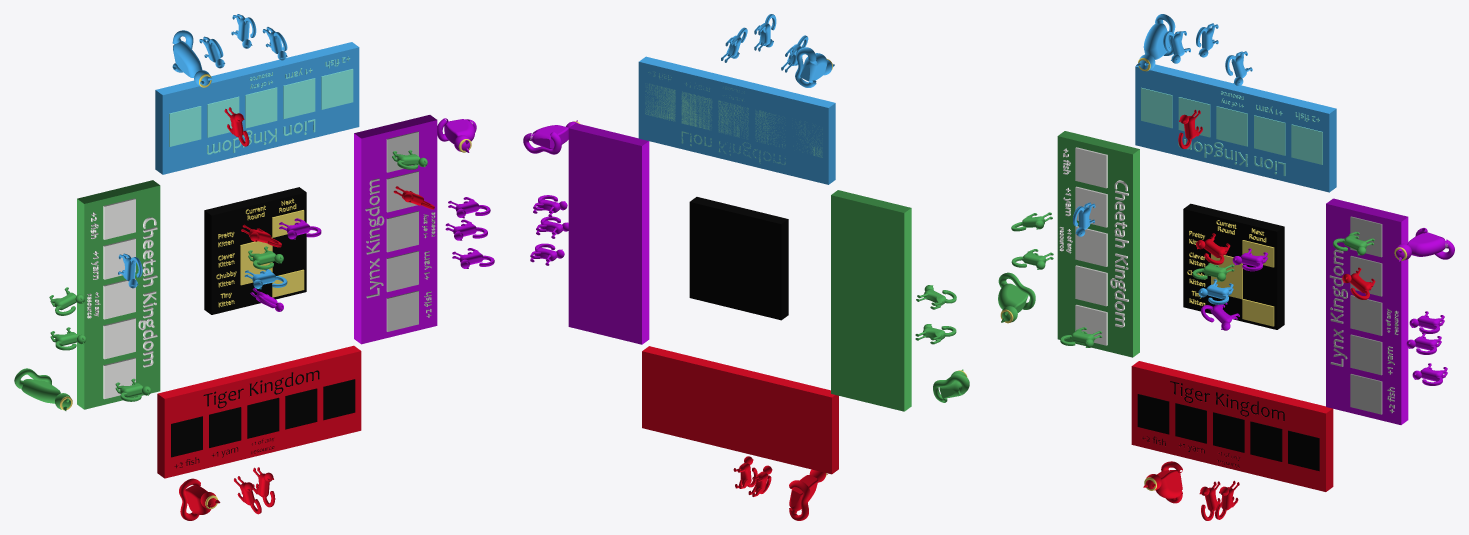
Rendered from Kitten_Kingdoms_v40.glb.
3 views of the same model, side by side, from view 1: azimuth 30°, elevation 25°; view 2: azimuth 150°, elevation 25°; view 3: azimuth 330°, elevation 25° (orthographic). The views are drawn at different scales.
Visible parts, largest first — view 1: Player Mat (×6), Player Mat:3 (×6), Player Mat 2 (×6), Player Mat:4 (×6), Turn Order Mat (×2), Kitten Kingdoms_Monarch Cat v1 (×2), Kitten Kingdoms_Monarch Cat v2, Monarch Cat; view 2: Player Mat:3 (×4), Player Mat 2, Player Mat:4, Player Mat, Turn Order Mat, Monarch Cat, Kitten Kingdoms_Monarch Cat v1, Kitten Kingdoms_Monarch Cat v2; view 3: Player Mat (×6), Player Mat:3 (×6), Player Mat 2 (×6), Player Mat:4 (×6), Turn Order Mat (×2), Kitten Kingdoms_Monarch Cat v1 (×2), Monarch Cat, Kitten Kingdoms_Monarch Cat v2.
Boxes of the visible parts, x1,y1,x2,y2 form: Player Mat (×6): (157, 345, 361, 478); Player Mat:3 (×6): (155, 42, 359, 174); Player Mat 2 (×6): (354, 115, 437, 344); Player Mat:4 (×6): (77, 180, 160, 409); Turn Order Mat (×2): (204, 187, 306, 314); Kitten Kingdoms_Monarch Cat v1 (×2): (21, 379, 216, 514); Kitten Kingdoms_Monarch Cat v2: (173, 41, 210, 86); Monarch Cat: (444, 119, 474, 151); Player Mat:3 (×4): (638, 56, 835, 184); Player Mat 2: (568, 123, 649, 344); Player Mat:4: (831, 190, 911, 411); Player Mat: (642, 346, 838, 474); Turn Order Mat: (689, 197, 788, 320); Monarch Cat: (531, 121, 577, 148); Kitten Kingdoms_Monarch Cat v1: (789, 469, 825, 510); Kitten Kingdoms_Monarch Cat v2: (800, 53, 832, 81); Player Mat (×6): (1131, 361, 1333, 491); Player Mat:3 (×6): (1135, 64, 1336, 192); Player Mat 2 (×6): (1326, 198, 1408, 424); Player Mat:4 (×6): (1057, 131, 1139, 357); Turn Order Mat (×2): (1183, 203, 1284, 329); Kitten Kingdoms_Monarch Cat v1 (×2): (998, 283, 1182, 498); Monarch Cat: (1396, 232, 1445, 260); Kitten Kingdoms_Monarch Cat v2: (1139, 23, 1170, 70).
Size of the model in its own units: 73 by 75.68 by 8.13.
